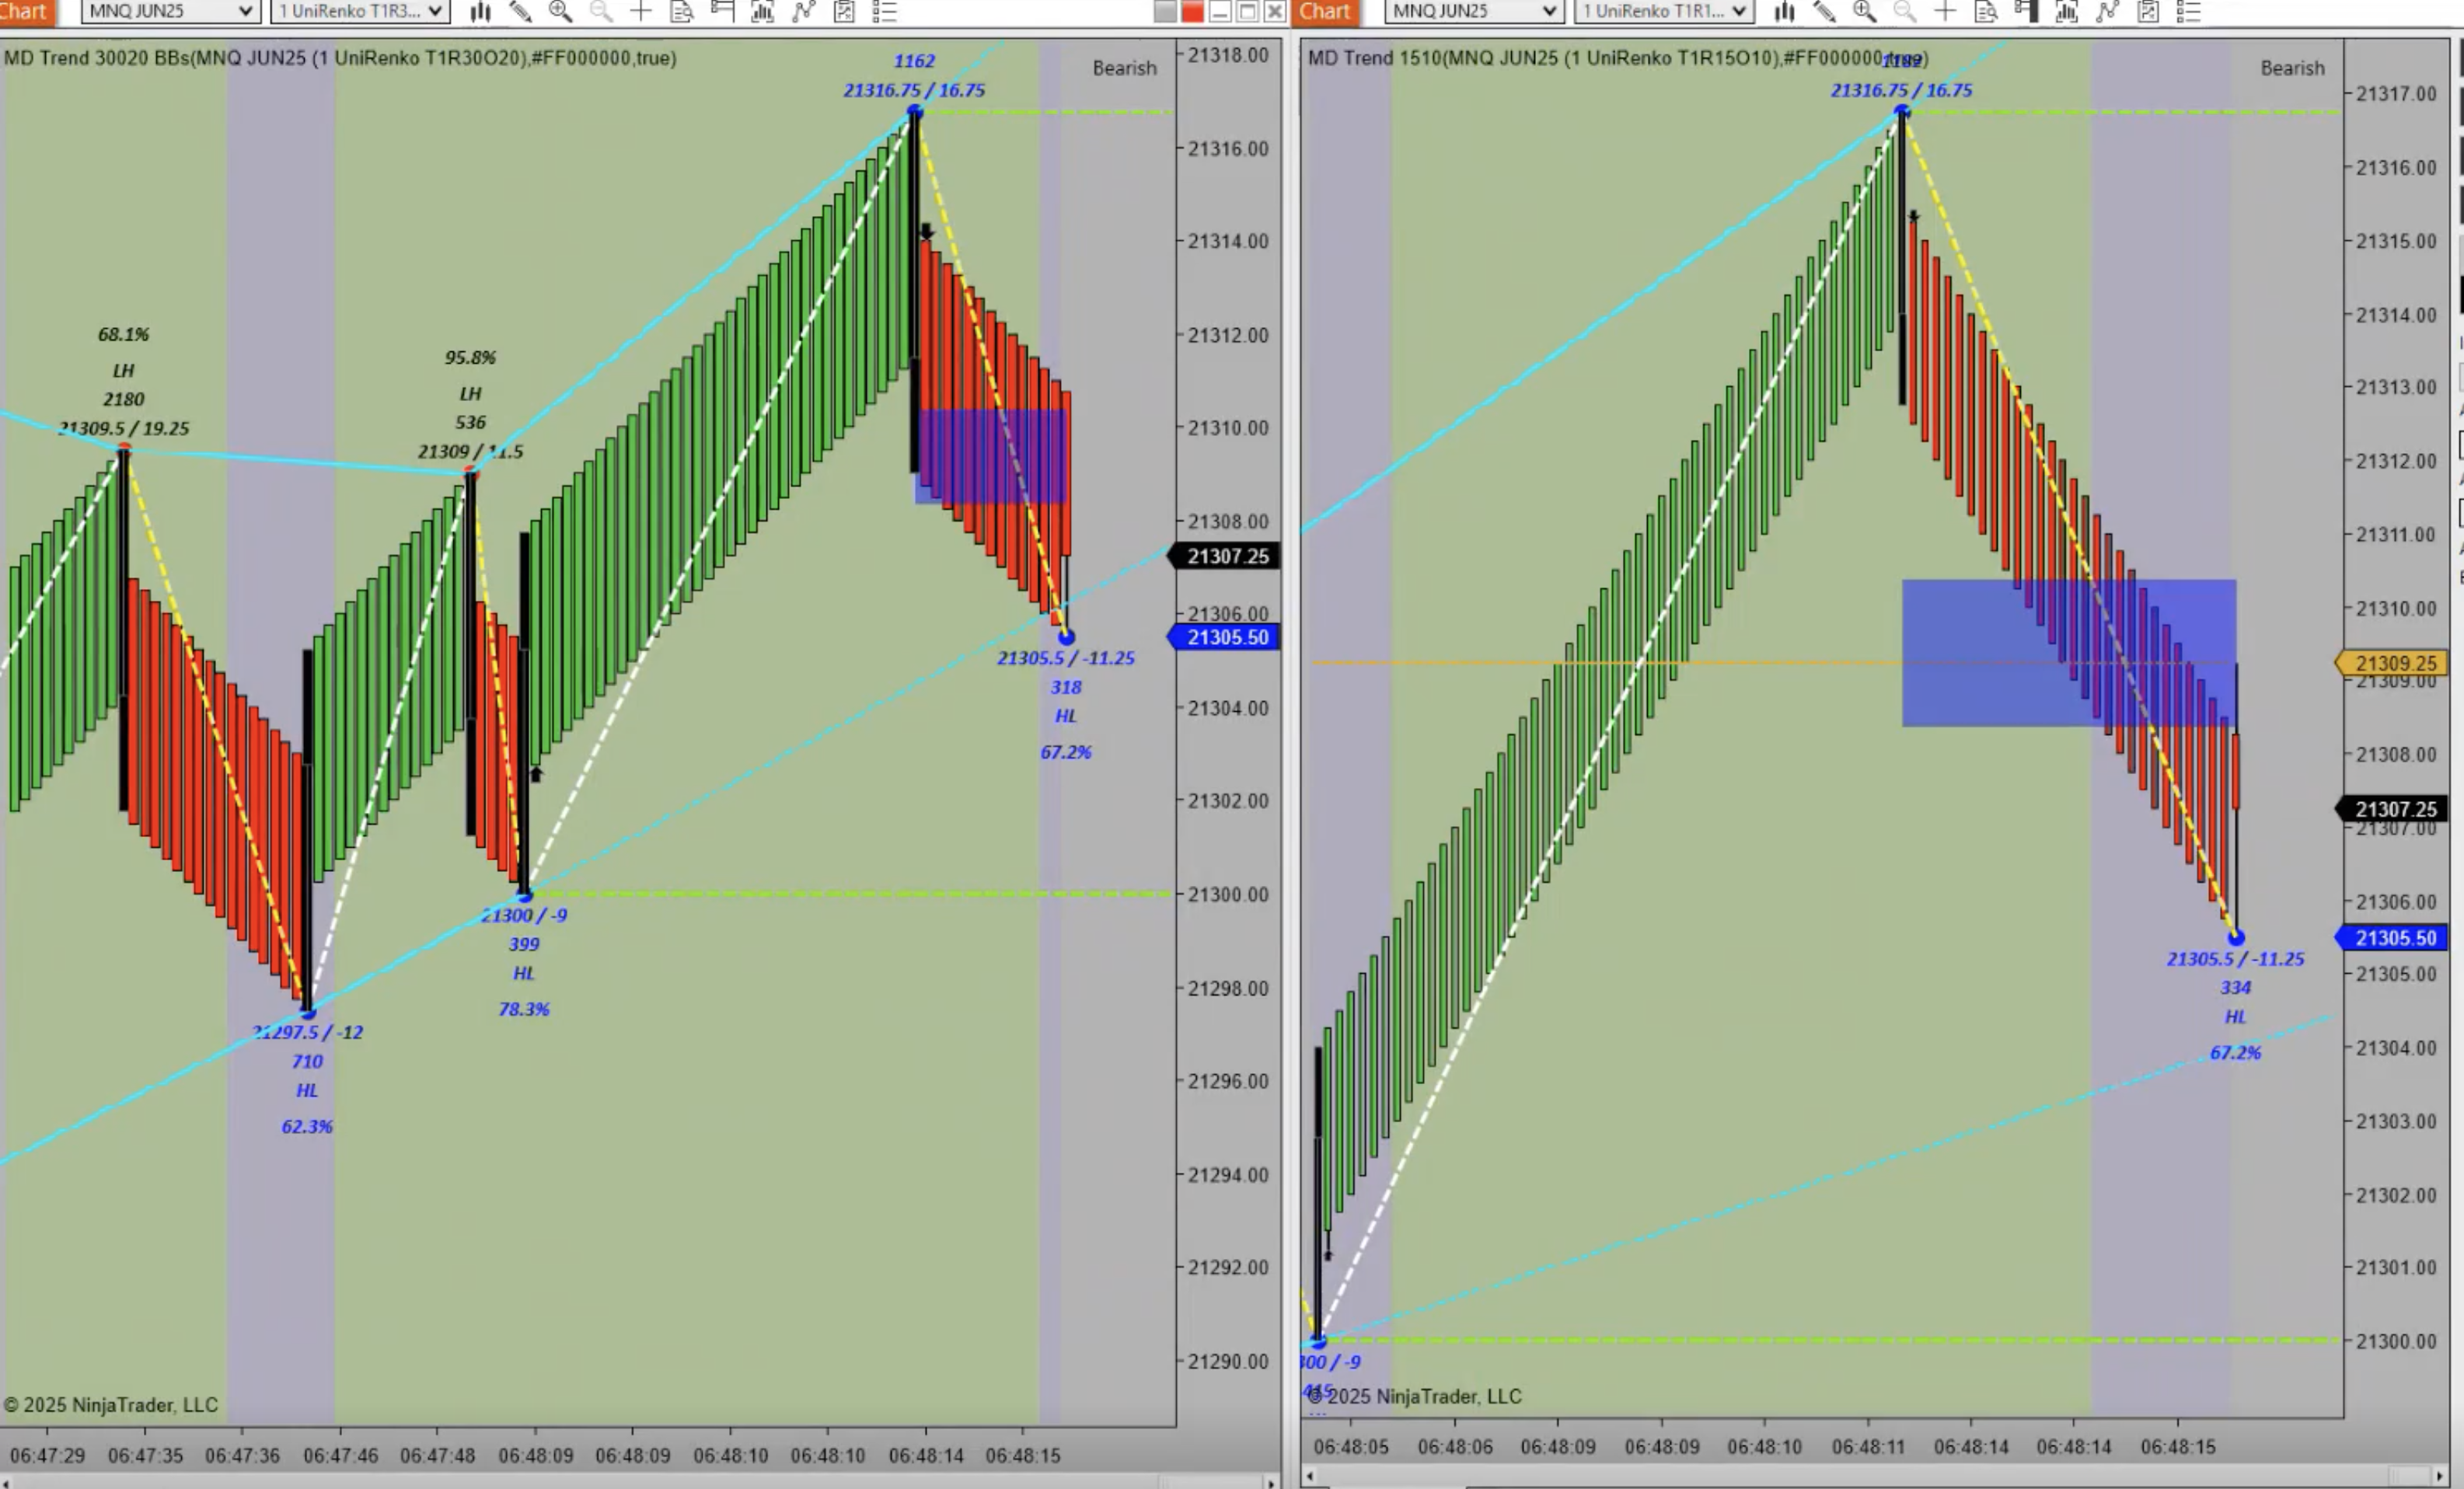candle: (114, 445, 139, 822), (516, 532, 539, 887), (299, 648, 320, 1012), (906, 104, 926, 480), (465, 473, 484, 845), (1313, 1045, 1329, 1343), (1896, 107, 1910, 414)
